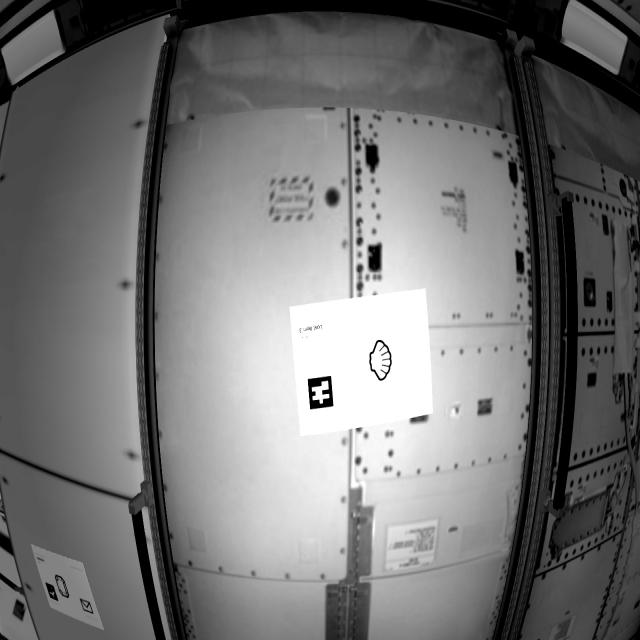emerald: (53, 572, 73, 603)
letter: (81, 597, 95, 618)
shell: (362, 332, 409, 388)
